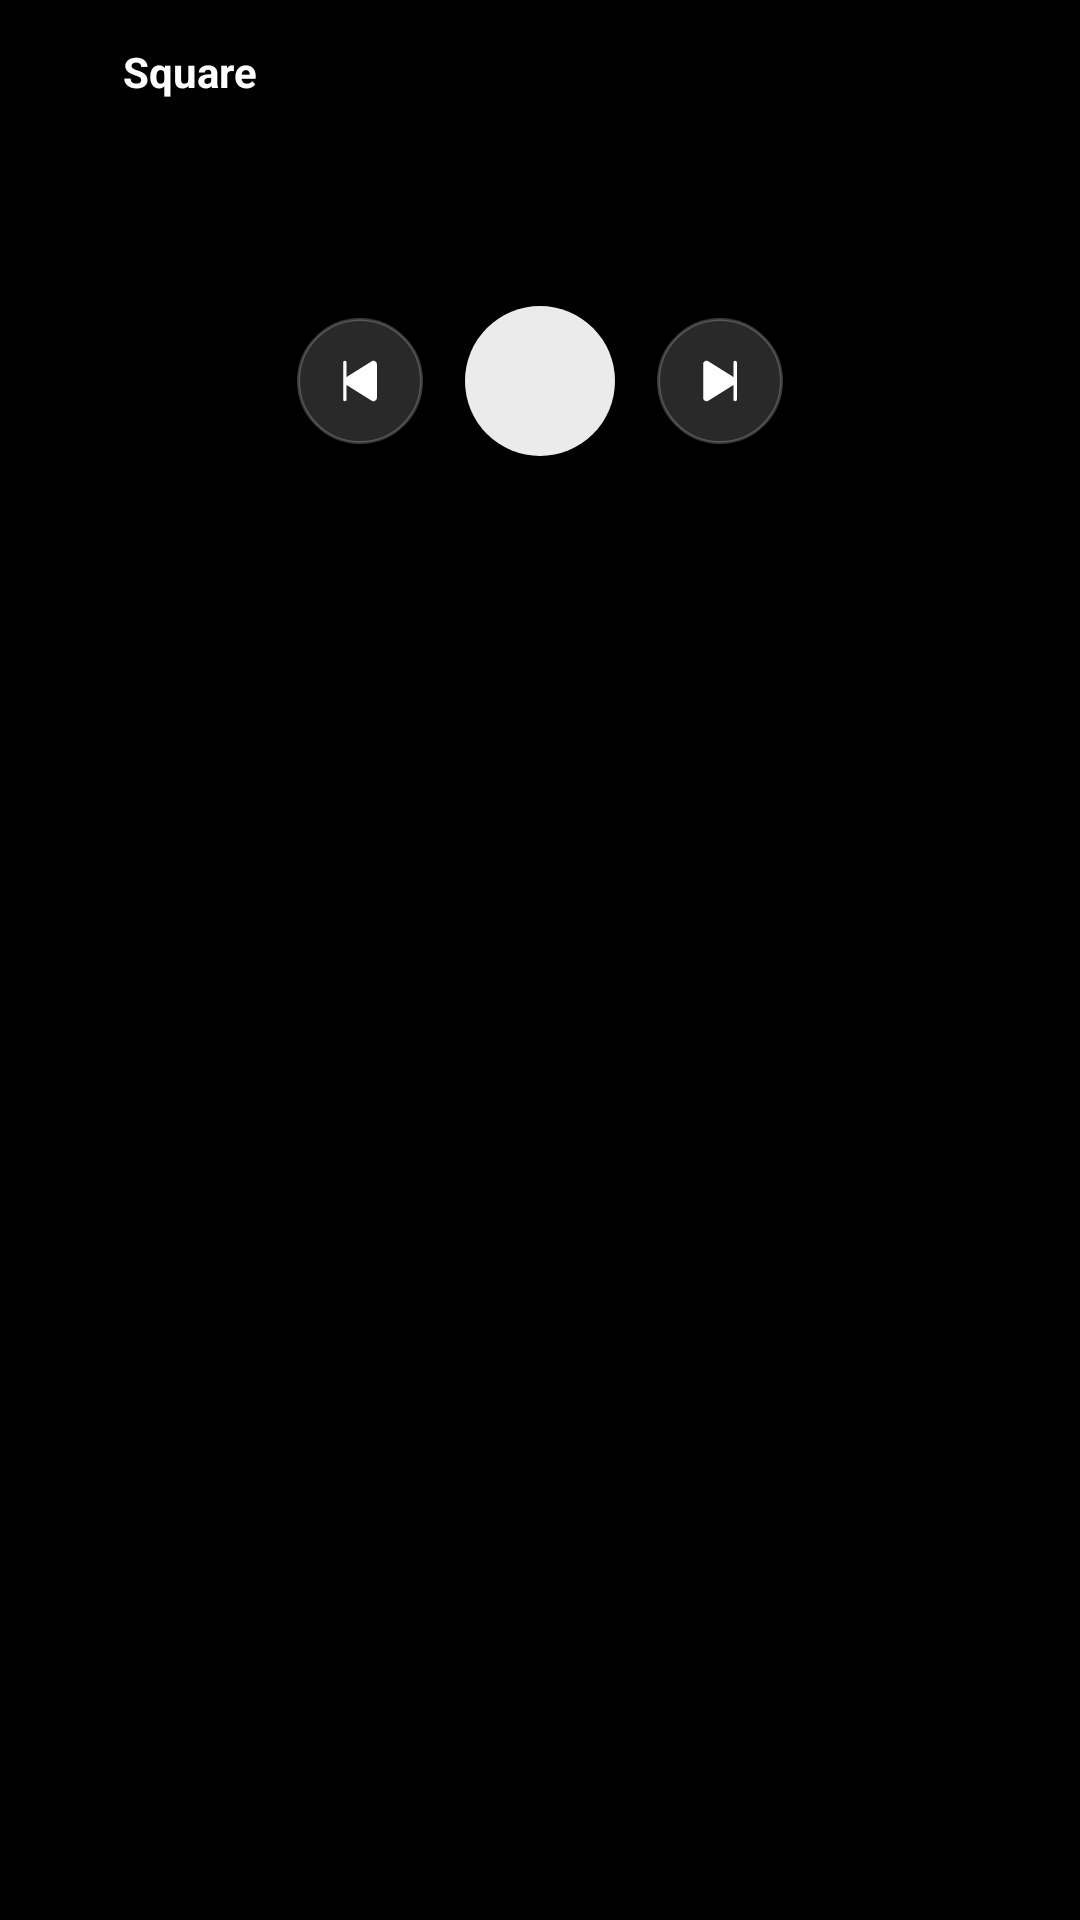

Point at icon controls on the screen. Image size 1080 x 1920, points as (x=x, y=y).
Next: (x=720, y=381)
Previous: (x=360, y=381)
